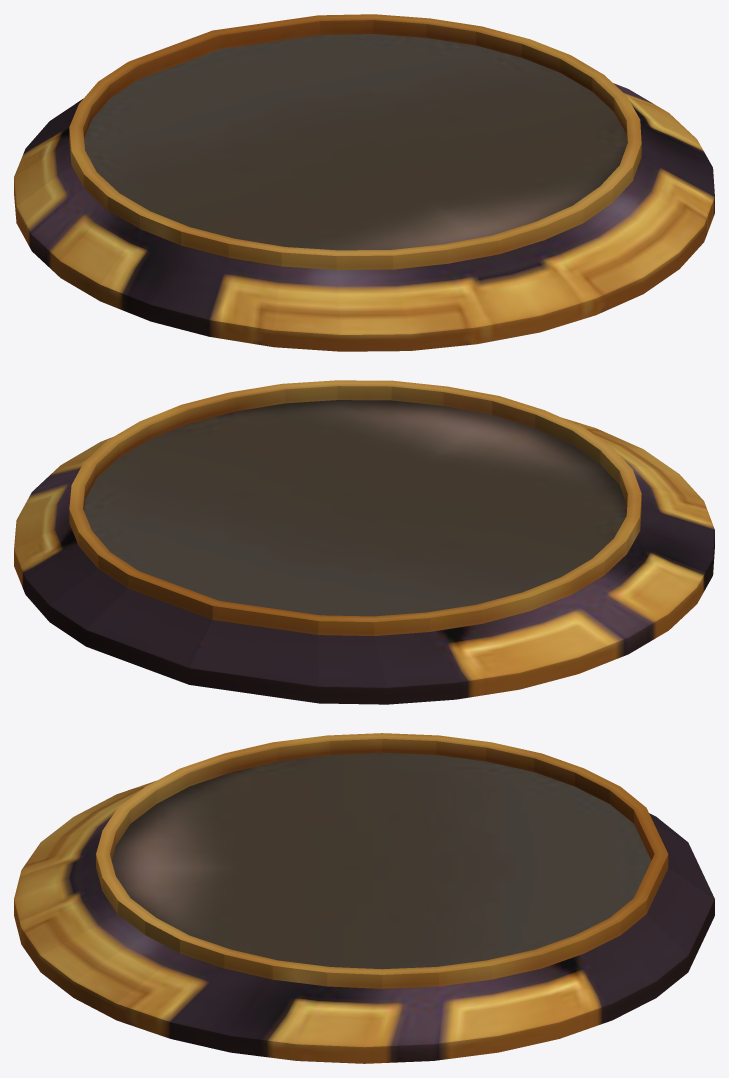
The model's file is Chassis.FBX.
The picture shows the model from 3 angles, top to bottom: view 1: azimuth 30°, elevation 25°; view 2: azimuth 150°, elevation 25°; view 3: azimuth 270°, elevation 25°; orthographic projection.
Visible parts, largest first — view 1: Chassis; view 2: Chassis; view 3: Chassis.
Boxes of the visible parts, box(x1,y1,x2,y2) form: Chassis: box(14, 14, 714, 351); Chassis: box(14, 380, 714, 704); Chassis: box(14, 733, 714, 1063).
Size of the model in its own units: 11.23 by 1.09 by 11.23.
Materials: 1 (1 with a texture image).
